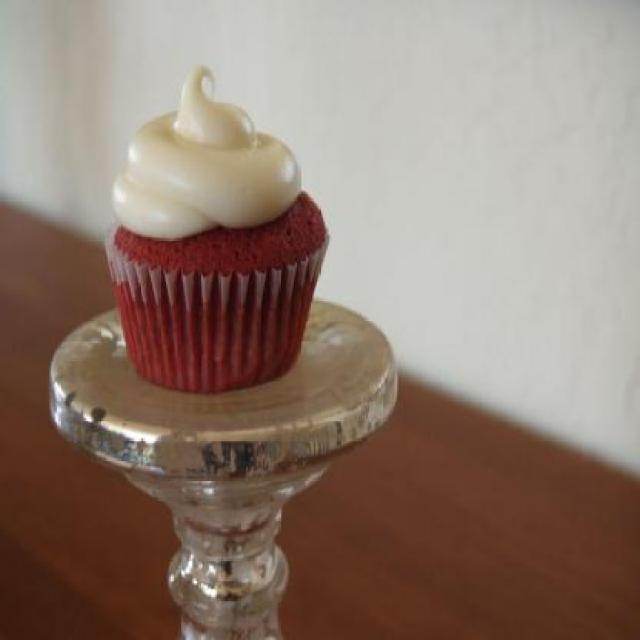Muffin: (106, 64, 328, 396)
